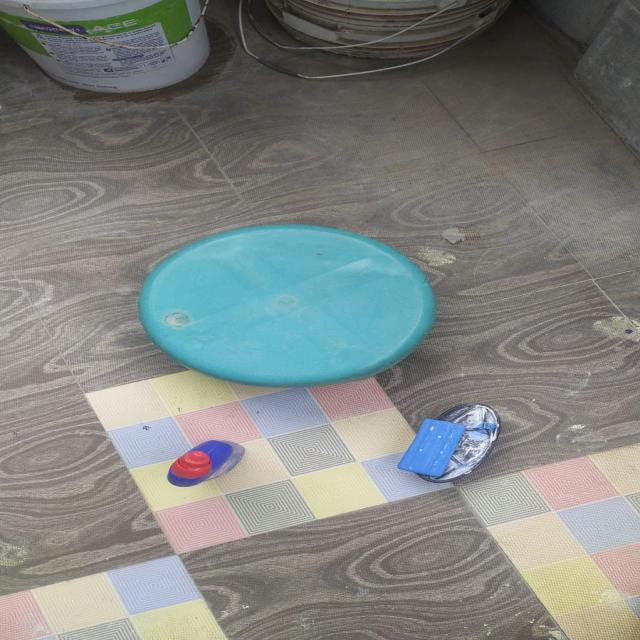dry: (115, 215, 497, 391), (381, 399, 532, 492), (147, 431, 267, 509)
